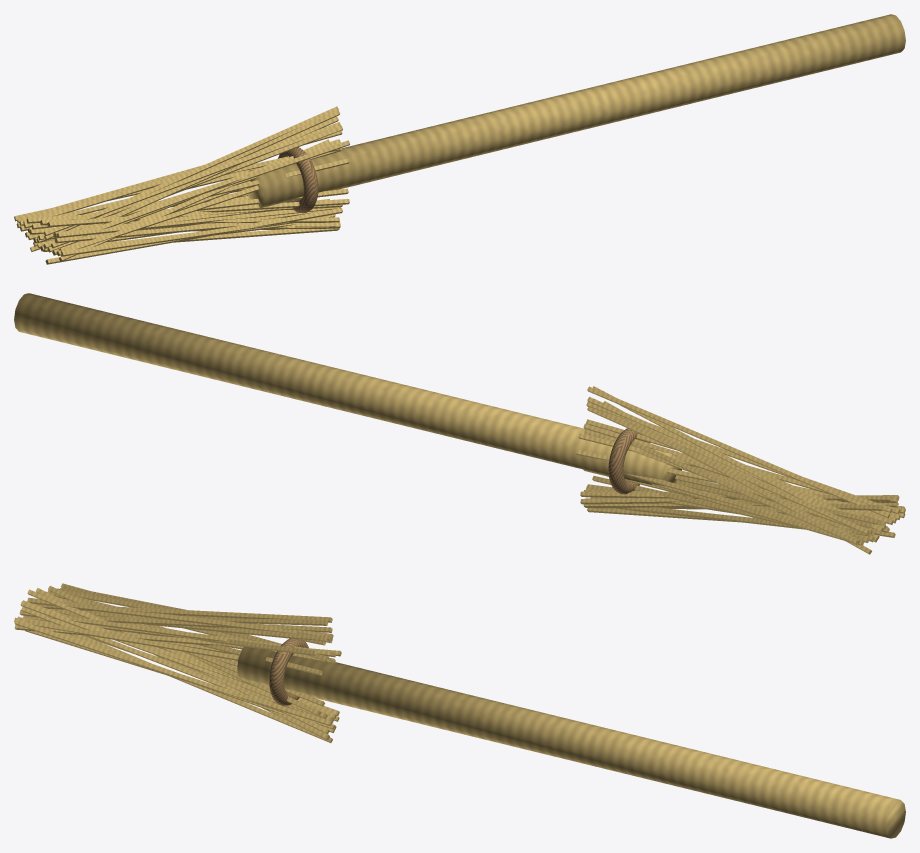
File: z2_escoba.obj
The picture shows the model from 3 angles, top to bottom: view 1: azimuth 30°, elevation 25°; view 2: azimuth 150°, elevation 25°; view 3: azimuth 330°, elevation 25°; orthographic projection.
Parts seen in each view (by area): view 1: escoba; view 2: escoba; view 3: escoba.
Part boxes in pixels (bbox=[...]): escoba: bbox=[14, 14, 905, 264]; escoba: bbox=[14, 293, 905, 554]; escoba: bbox=[14, 583, 905, 838].
Size of the model in its own units: 0.3999 by 0.0556 by 0.0401.
Materials: 2 (2 with a texture image).
